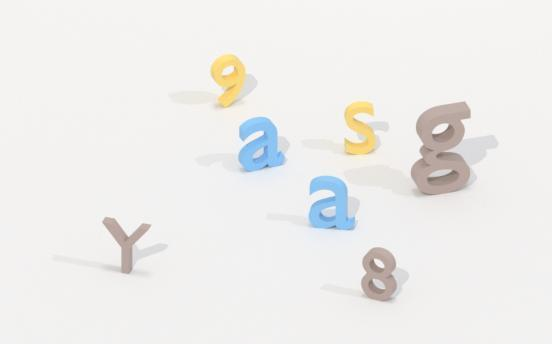chu_khoi: (411, 102, 470, 194), (103, 217, 150, 272), (238, 117, 284, 170), (309, 176, 355, 229), (344, 101, 376, 154)
so_khoi: (361, 247, 396, 300), (211, 54, 245, 106)
